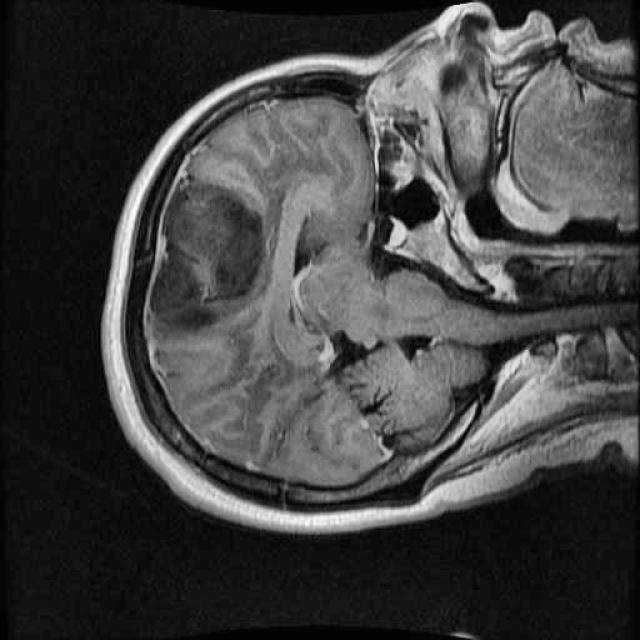Tumor: (136, 151, 279, 354)
